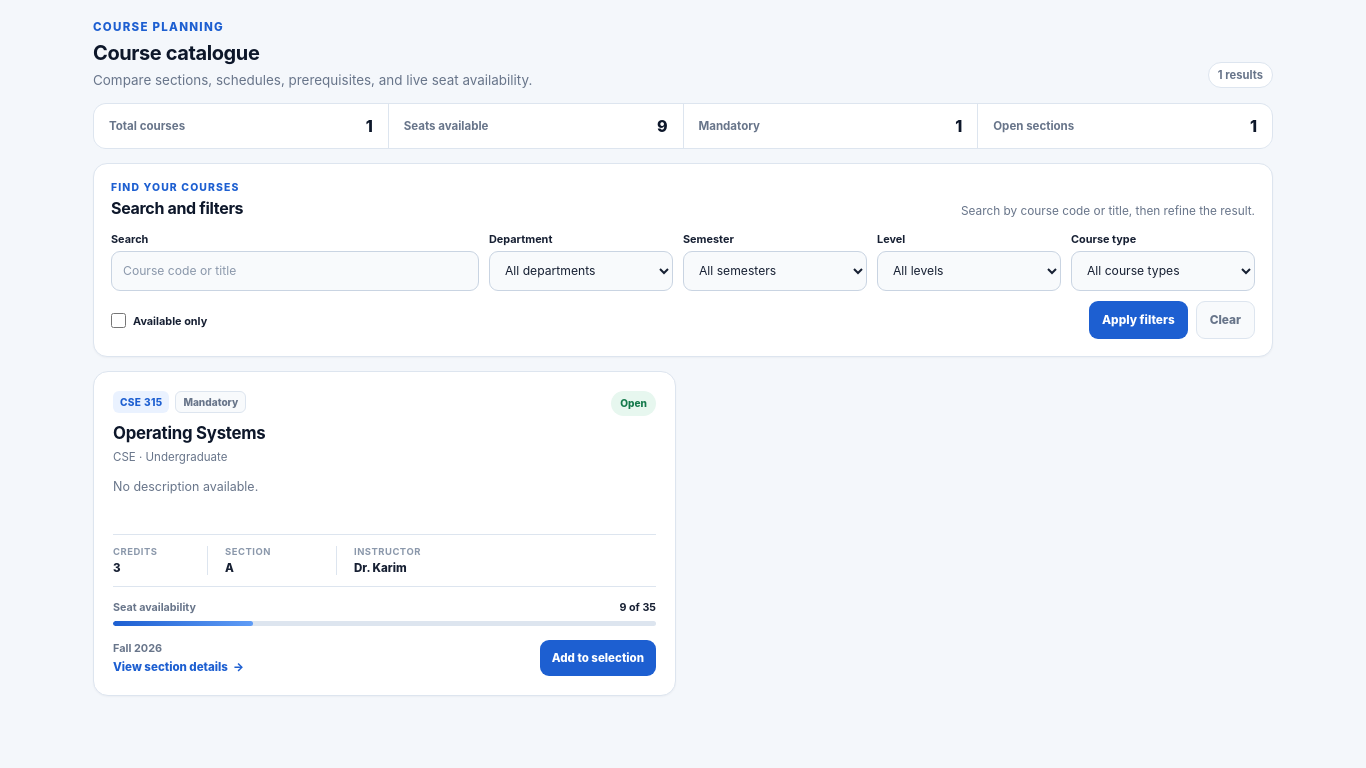
StudentDashboardPage › shows missing prerequisite details returned by the backend
This screenshot has width=1366, height=768.
(page scrolled)
Click the button "Add to selection".
click(598, 658)  # box [540,640,656,676]
(page scrolled)
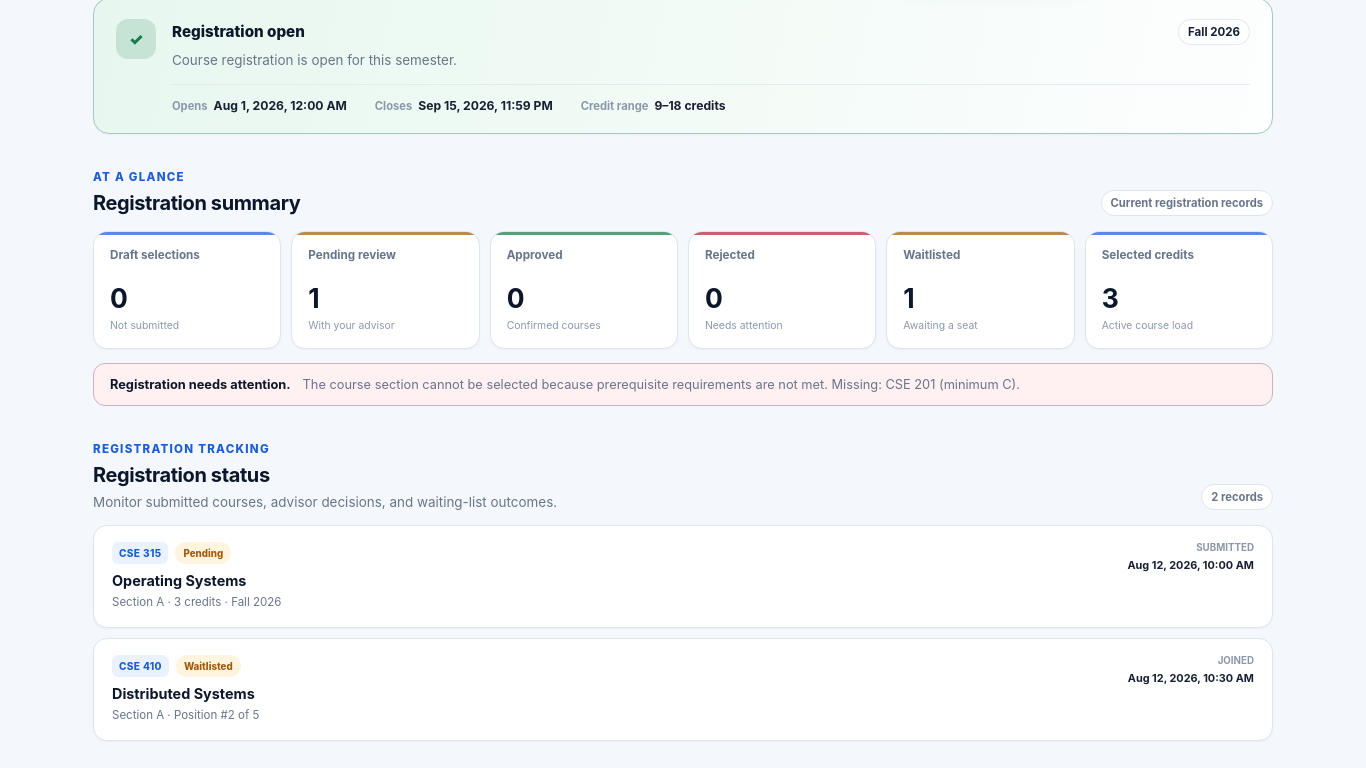
Expected: the text "Missing: CSE 201 (minimum C)" is shown, [303,377,1020,392]
